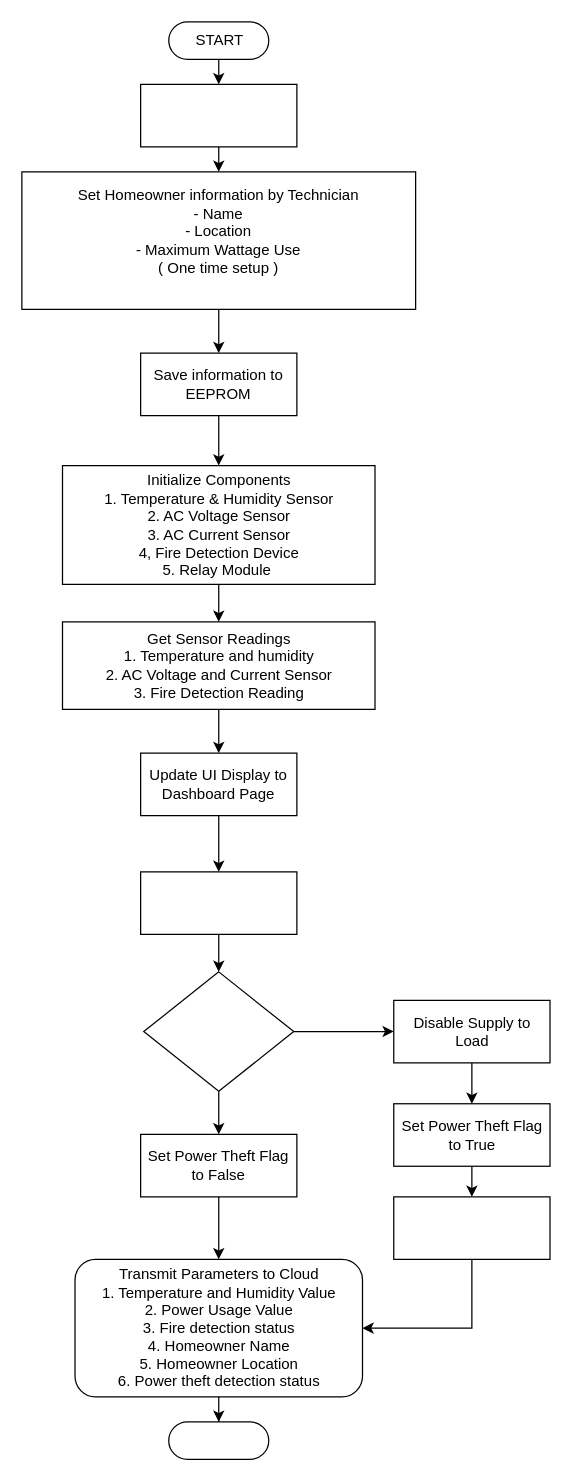
This 573x1481 diagram has some shape labels left out. Each missing label, with the centre of its shape:
Dashboard Display 1. Thermostat Reading 2. Wattage Usage: point 218,902
END: point 218,1440
Power Theft Detected?: point 218,1031
Update UI Display to Setup Page: point 218,115
Update UI Power Theft Detect display: point 471,1227
